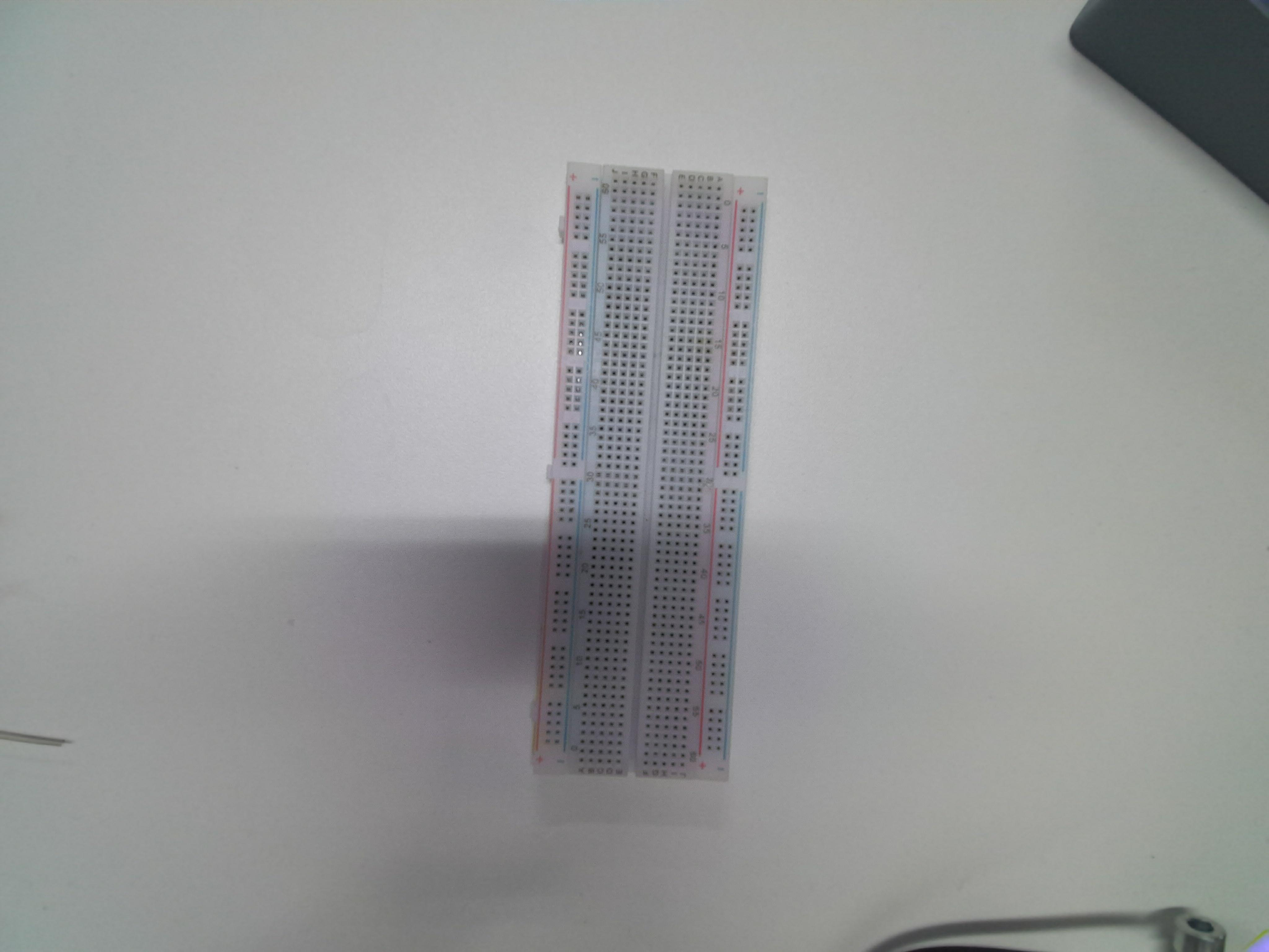base: (529, 159, 776, 784)
